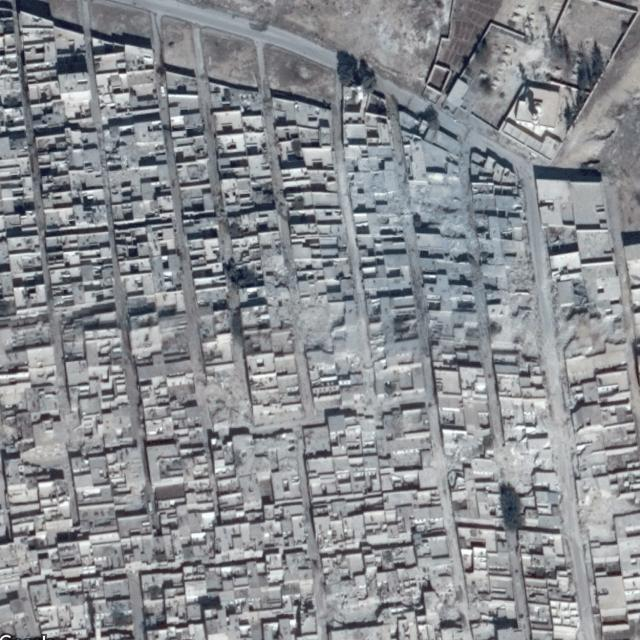damaged_building: (404, 180, 480, 258), (288, 296, 345, 348), (204, 371, 252, 431)
